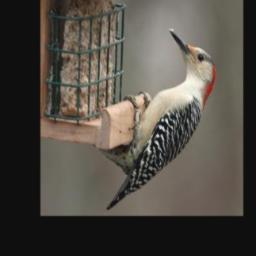Woodpecker: (98, 27, 217, 211)
